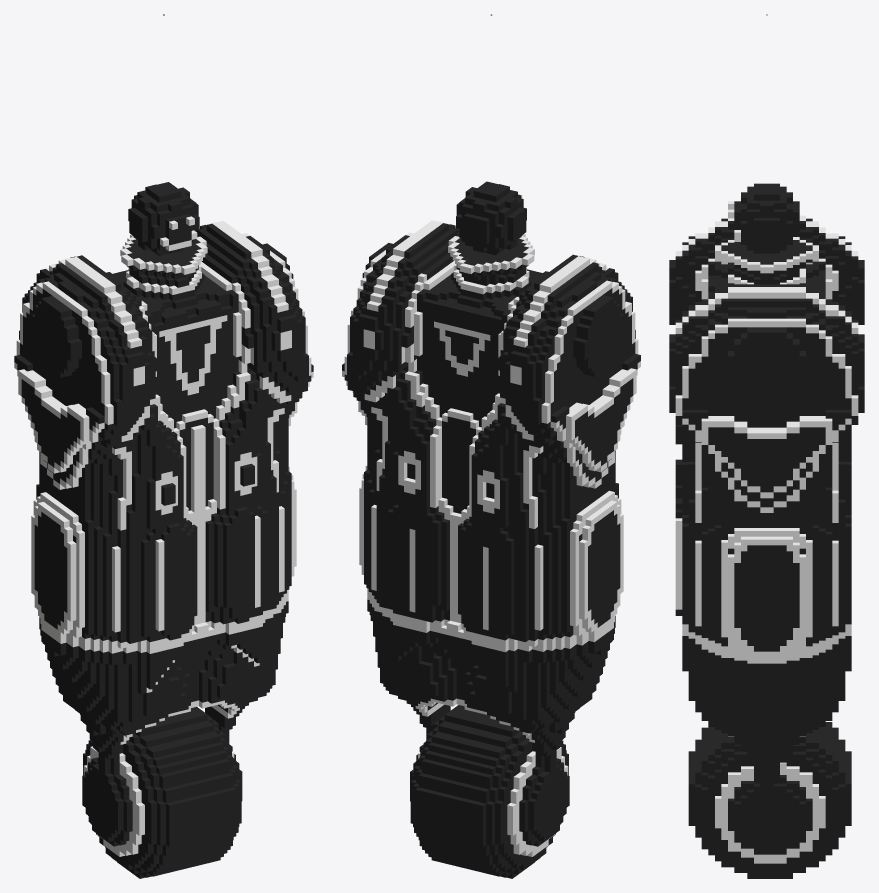
Rendered from unibot_body.fbx.
3 renders of one model, left to right at view 1: azimuth 30°, elevation 25°; view 2: azimuth 150°, elevation 25°; view 3: azimuth 270°, elevation 25°, orthographic.
Parts seen in each view (by area): view 1: unibot_body.003; view 2: unibot_body.003; view 3: unibot_body.003.
Part boxes in pixels (x1,y1,x2,y2): unibot_body.003: (14, 14, 313, 878); unibot_body.003: (342, 14, 640, 878); unibot_body.003: (669, 14, 864, 878).
Bounding box in the file's own units: 40 × 144 × 30.
